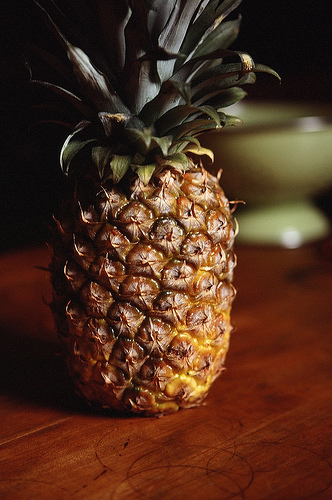pineapple: (31, 0, 283, 418)
